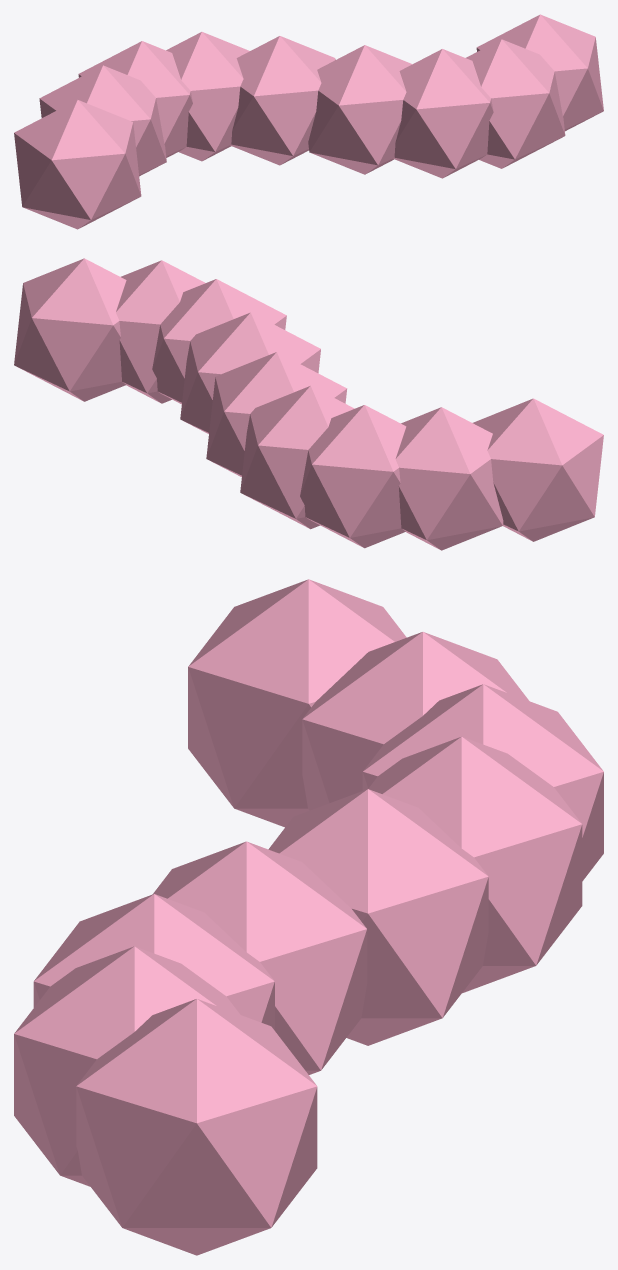
Rendered from bait_worm.glb.
The picture shows the model from 3 angles, top to bottom: view 1: azimuth 30°, elevation 25°; view 2: azimuth 150°, elevation 25°; view 3: azimuth 270°, elevation 25°; orthographic projection. The views are drawn at different scales.
Parts seen in each view (by area): view 1: bait_worm; view 2: bait_worm; view 3: bait_worm.
Part boxes in pixels (left/top/right/bottom): bait_worm: left=14, top=14, right=603, bottom=229; bait_worm: left=14, top=258, right=603, bottom=550; bait_worm: left=14, top=579, right=603, bottom=1255.
Size of the model in its own units: 0.3516 by 0.08 by 0.1664.
